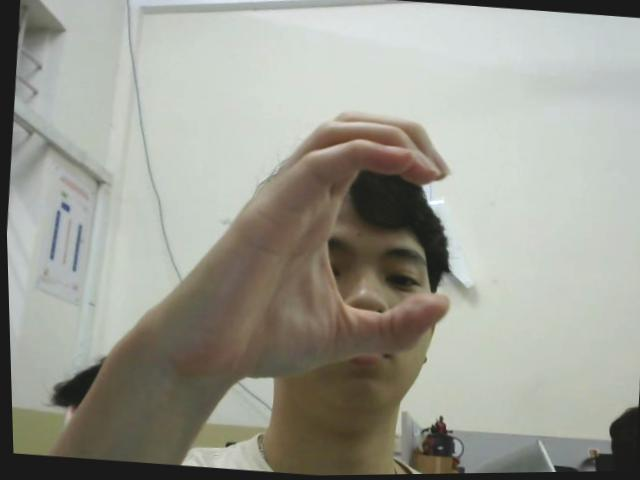C: (168, 93, 466, 398)
